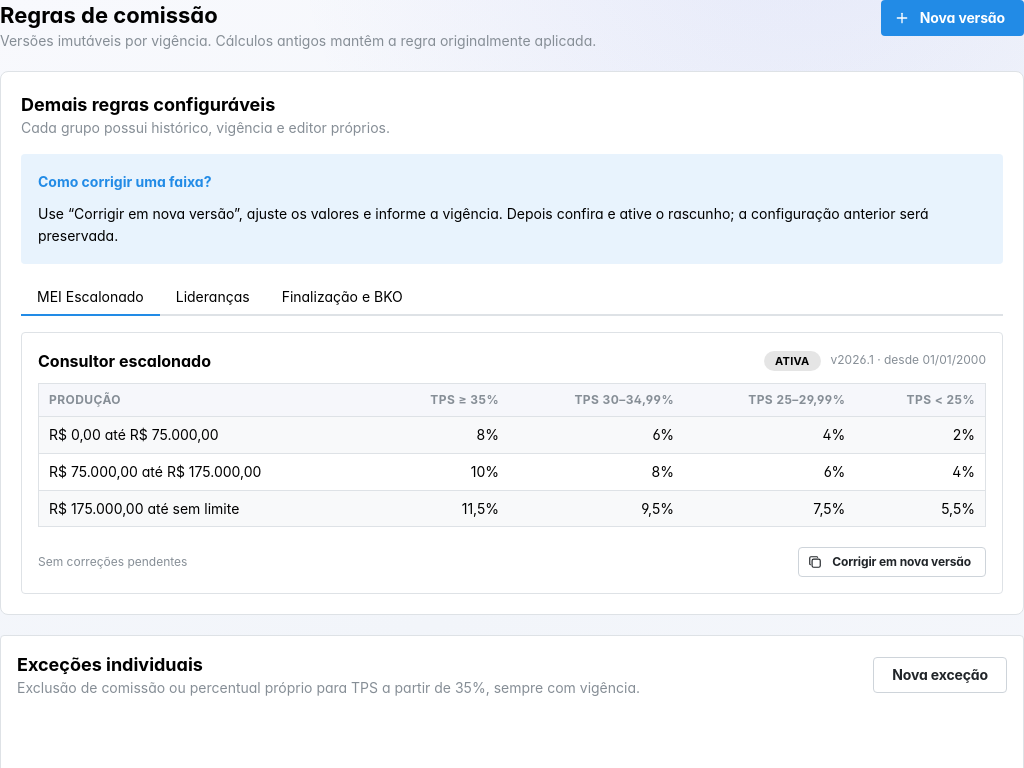
Test: CommissionRulesPage › abre a correção versionada das faixas escalonadas com máscaras legíveis
Click the button "Corrigir em nova versão".
click(892, 562)  # box [798,547,986,577]
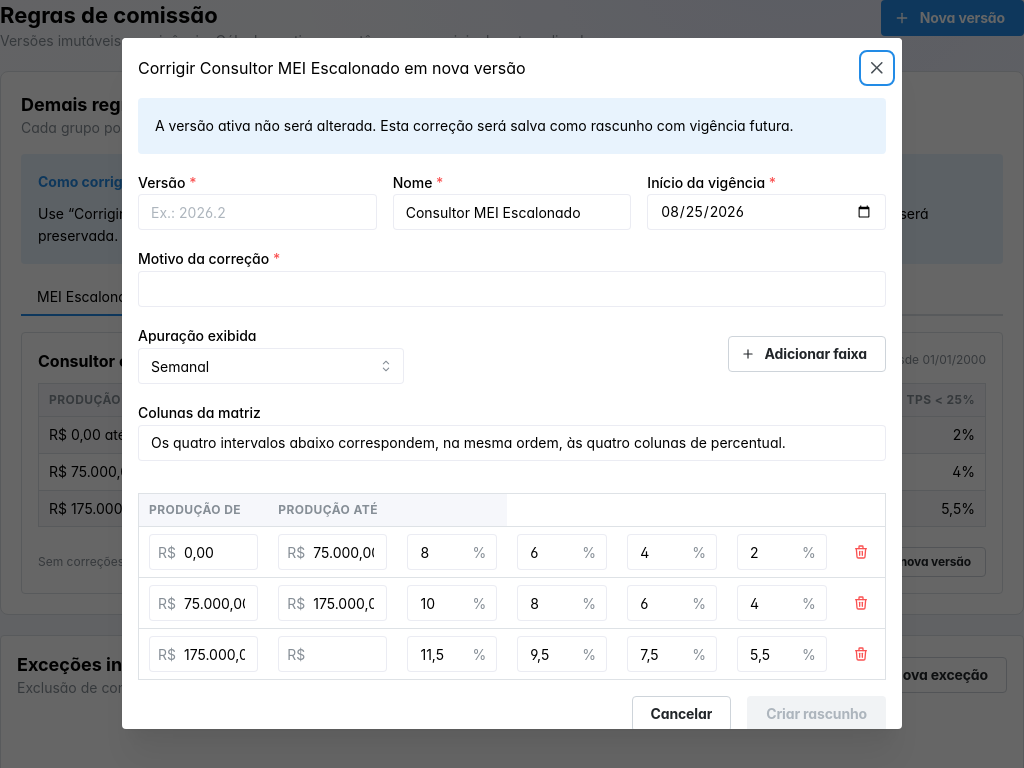
Expected: the dialog "Corrigir Consultor MEI Escalonado" is shown
Expected: the number of fields showing "75.000,00" is 2, [278,535,387,571]; [149,586,258,622]
